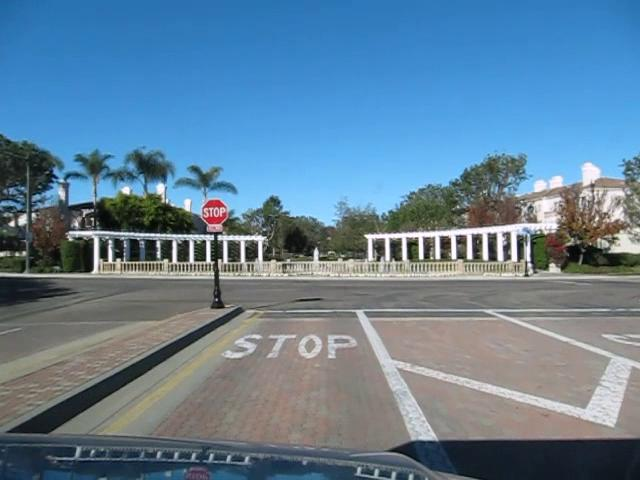stop: (200, 197, 228, 225)
